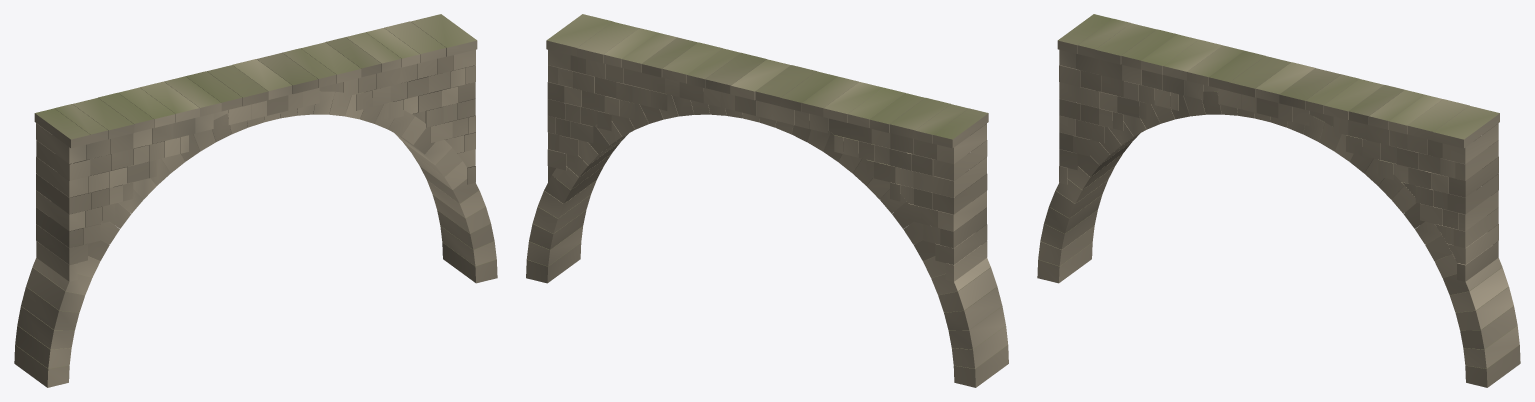
The model's file is viaduct_arch_b_mid.glb.
The picture shows the model from 3 angles, left to right: view 1: azimuth 30°, elevation 25°; view 2: azimuth 150°, elevation 25°; view 3: azimuth 330°, elevation 25°; orthographic projection.
Parts seen in each view (by area): view 1: viaduct_arch_b_mid; view 2: viaduct_arch_b_mid; view 3: viaduct_arch_b_mid.
Boxes of the visible parts, bbox=[...] form: viaduct_arch_b_mid: bbox=[14, 14, 497, 387]; viaduct_arch_b_mid: bbox=[526, 14, 1008, 387]; viaduct_arch_b_mid: bbox=[1037, 14, 1520, 387].
Size of the model in its own units: 62.43 by 32.37 by 8.77.
